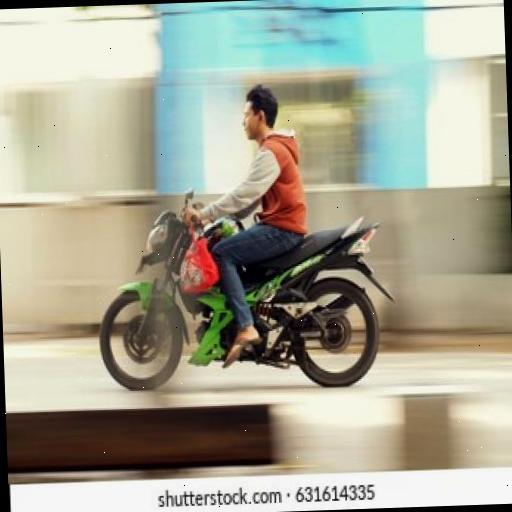no helmet: (160, 67, 318, 390)
